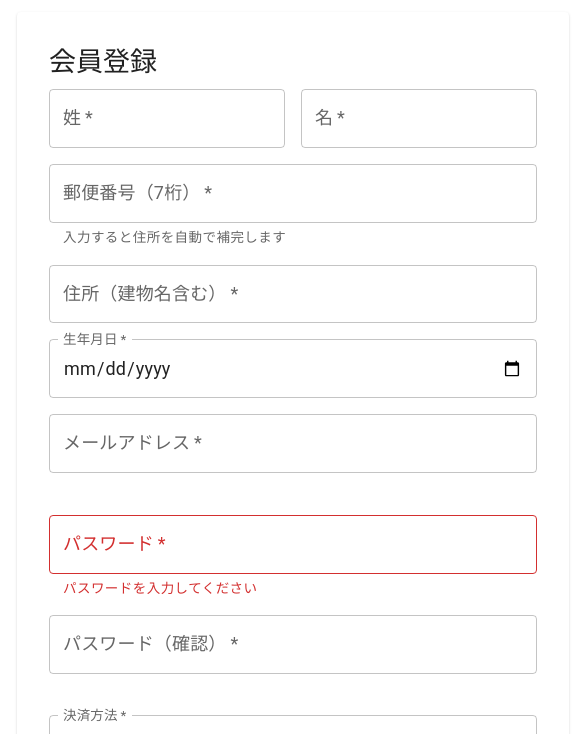
Test case: Register › 郵便番号入力で住所を自動補完する（候補1件）
In the field labelled "郵便番号（7桁） *": (293, 194) [49, 164, 537, 223], type "1000001"
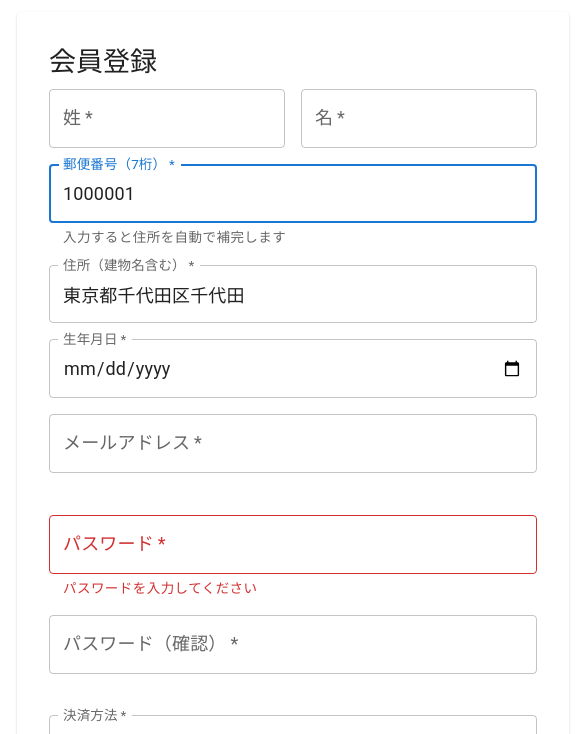
Check: the field labelled "住所（建物名含む） *" holds "東京都千代田区千代田", box [49, 265, 537, 324]
